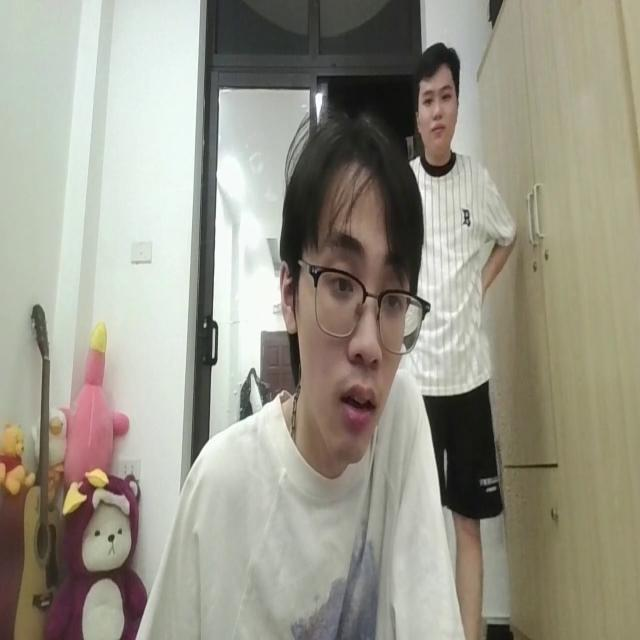extra_person: (400, 43, 517, 640)
student: (132, 108, 458, 640)
